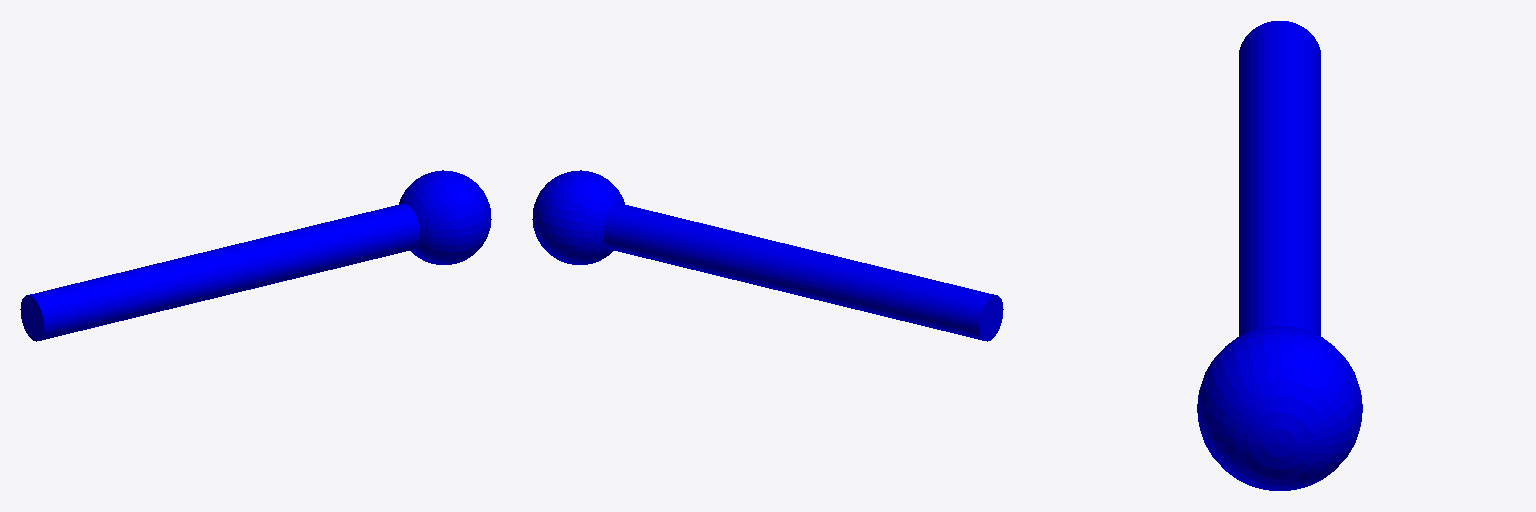
robot.urdf — arrow:
<?xml version="1.0"?>
<robot name="arrow">
    <material name="Cyan">
      <color rgba="0 0 1.0 1.0"/>
    </material>
  <link name="base">
  </link>

  <link name="shaft">
    <visual>
      <geometry>
        <cylinder length="1" radius="0.05"/>
      </geometry>
      <material name="Cyan" />
    </visual>
    <inertial>
      <origin rpy="0 0 0" xyz="0 0 0"/>
      <mass value="0.5"/>
      <inertia ixx="1" ixy="0" ixz="0" iyy="1" iyz="0" izz="1"/>
    </inertial>
  </link>

  <joint name="base-shaft" type="fixed">
    <parent link="base"/>
    <child link="shaft"/>
    <origin xyz="0.5 0 0" rpy="0 1.57079 0"/>
  </joint>

  <link name="tip">
    <visual>
      <geometry>
        <sphere radius="0.1"/>
      </geometry>
      <material name="Cyan" />
    </visual>
    <inertial>
      <origin rpy="0 0 0" xyz="0 0 0"/>
      <mass value="0.5"/>
      <inertia ixx="1" ixy="0" ixz="0" iyy="1" iyz="0" izz="1"/>
    </inertial>
  </link>

  <joint name="shaft-tip" type="fixed">
    <parent link="shaft"/>
    <child link="tip"/>
    <origin xyz="0 0 0.5"/>
  </joint>
</robot>

--- What the picture shows (computed from the rendered views, not written in the file) ---
The picture shows the robot from 3 angles, left to right: view 1: azimuth 30°, elevation 25°; view 2: azimuth 150°, elevation 25°; view 3: azimuth 270°, elevation 25°; orthographic projection.
Robot: arrow — 3 links, 2 joints (2 fixed); root link base; default pose: every joint at zero.
Links seen in each view (by area): view 1: shaft, tip; view 2: shaft, tip; view 3: shaft, tip.
Boxes of the visible links, <box> form: shaft: <box>20,203,419,341</box>; tip: <box>399,170,491,264</box>; shaft: <box>604,203,1003,341</box>; tip: <box>532,170,624,264</box>; shaft: <box>1239,21,1320,335</box>; tip: <box>1197,326,1362,490</box>.
Size in the robot's own frame: 1.1 by 0.2 by 0.2 metres.
Geometry: primitives only (box / cylinder / sphere), no mesh files.